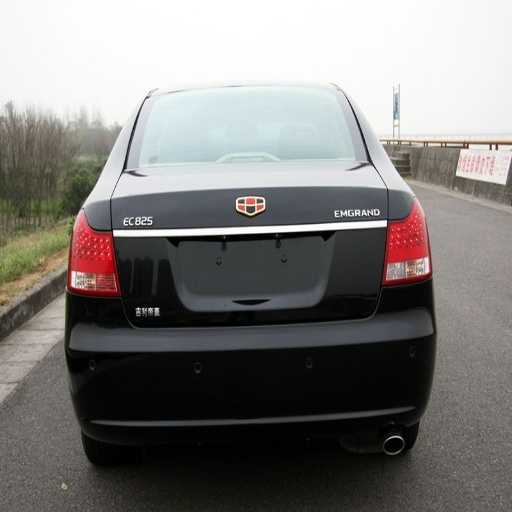back_bumper: (68, 279, 436, 460)
tailgate: (114, 163, 409, 326)
